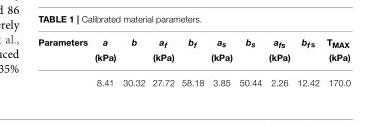table: (37, 37, 350, 87)
table column: (37, 37, 90, 87), (118, 37, 148, 87), (148, 37, 177, 87), (177, 37, 206, 87), (206, 37, 235, 87), (235, 37, 264, 87), (264, 37, 293, 87), (293, 37, 322, 87), (90, 37, 118, 87), (322, 37, 350, 87)
table column header: (37, 37, 350, 69)
table row: (37, 50, 350, 69), (37, 69, 350, 87), (37, 37, 350, 50)
table spanning cell: (37, 37, 90, 69), (118, 37, 148, 69), (148, 37, 177, 69), (177, 37, 206, 69), (206, 37, 235, 69), (235, 37, 264, 69), (264, 37, 293, 69), (293, 37, 322, 69), (90, 37, 118, 69), (322, 37, 350, 69)
